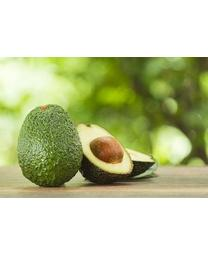avocado: (17, 103, 82, 187), (71, 122, 134, 186)
